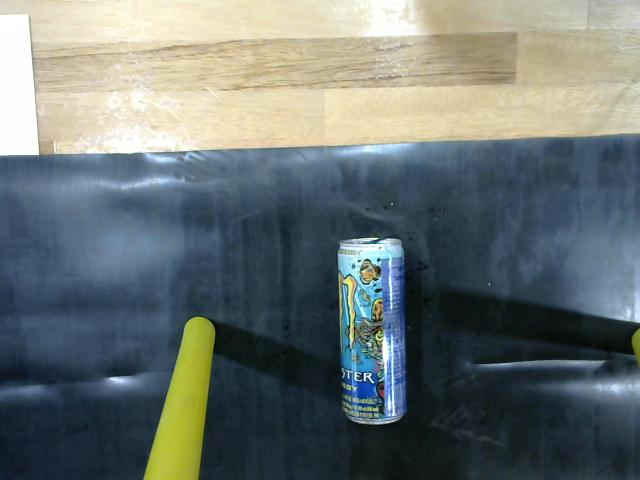can: (330, 231, 415, 431)
